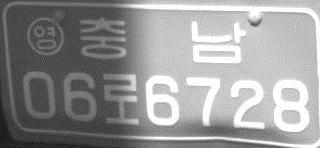0: (21, 70, 56, 120)
2: (230, 78, 265, 130)
6: (61, 70, 97, 123), (144, 73, 179, 125)
7: (185, 75, 221, 127)
8: (271, 78, 310, 133)
로: (102, 72, 141, 126)
영: (26, 16, 64, 57)
충남_D: (77, 15, 246, 64)
